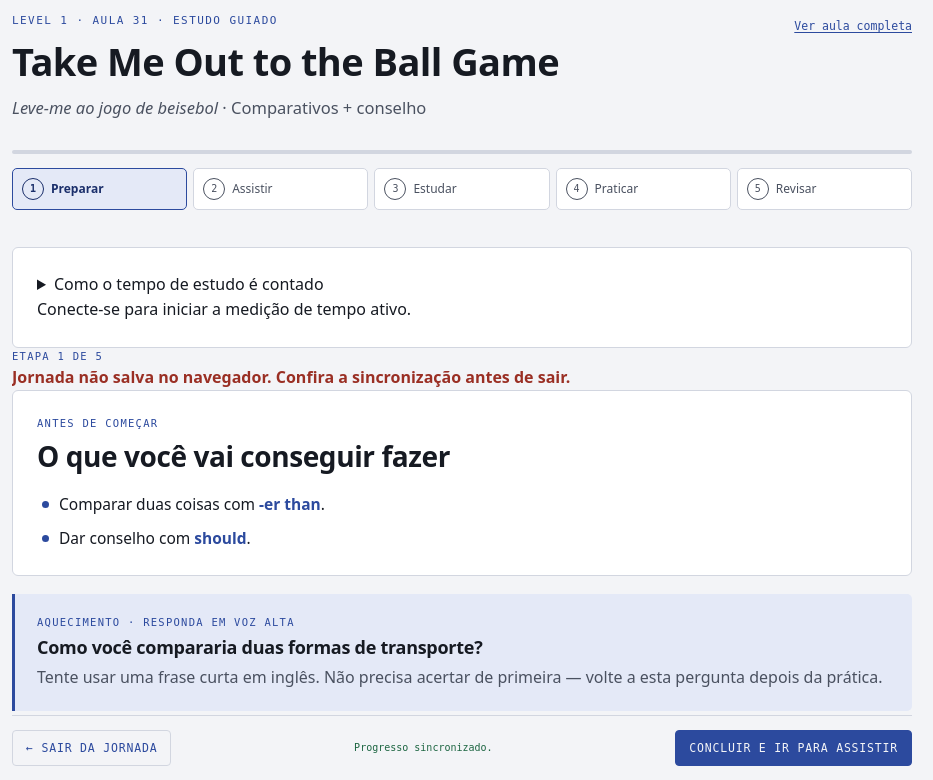
Test: StudyPage › quota não impede avançar nem sincronizar, mas não afirma salvamento local
Expected: the message "Jornada não salva no navegador. Confira a sincronização antes de sair." is shown, [12,366,570,388]
Step 1. Click the button "Concluir e ir para Assistir" → click(794, 748), box [675,730,912,766]
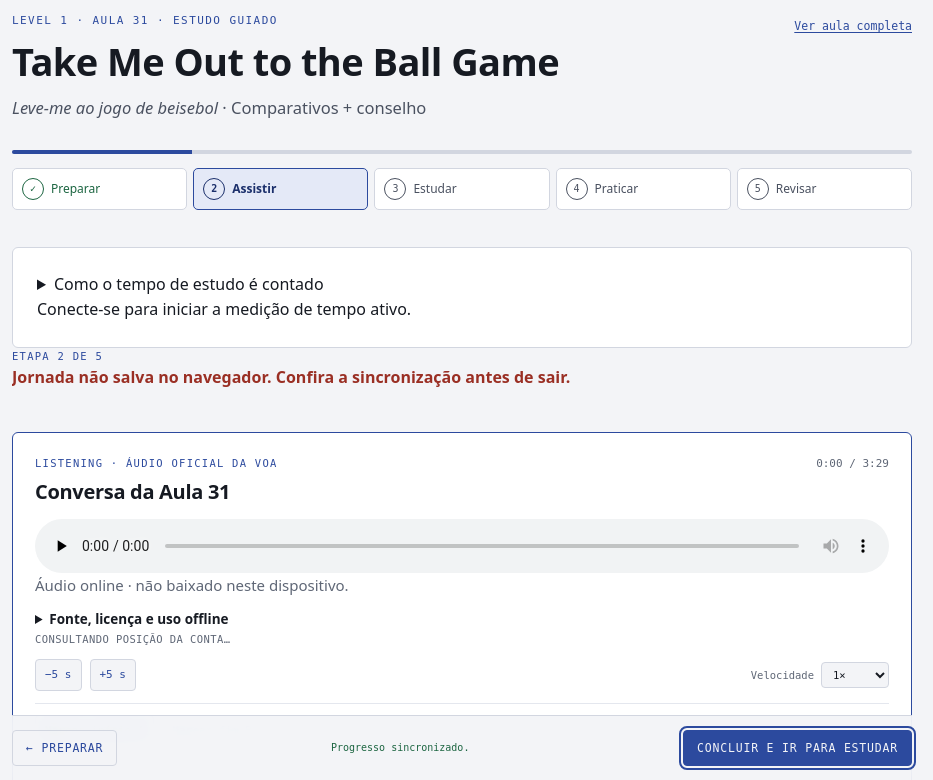
Expected: the text "Etapa 2 de 5" is shown, [12,350,103,362]
